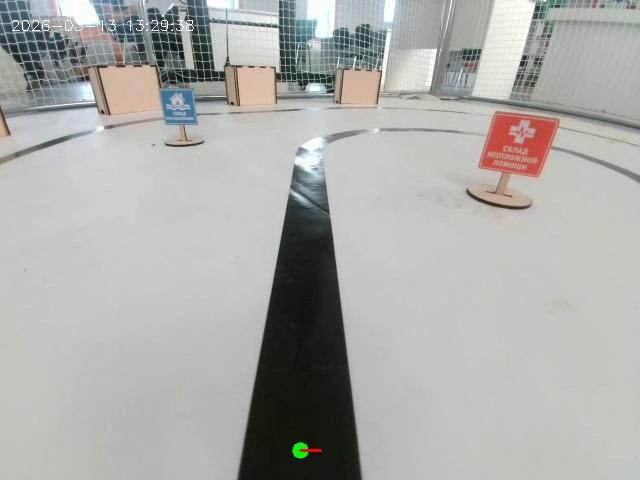flood: (142, 71, 216, 164)
medical: (467, 103, 564, 212)
